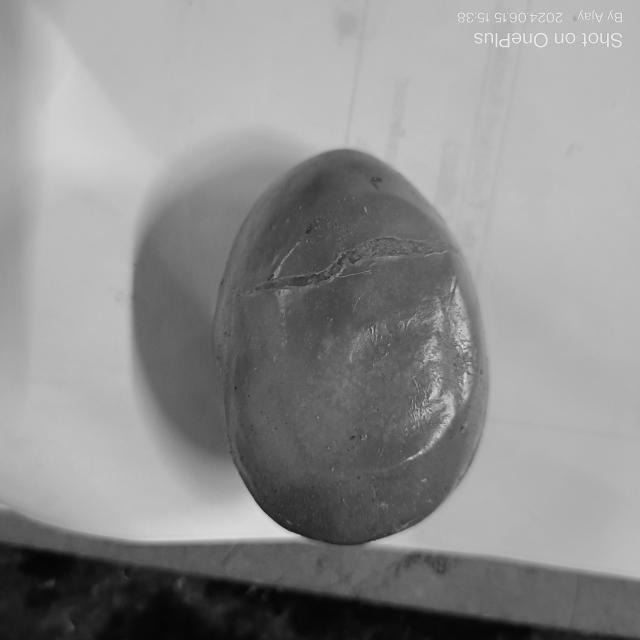Botrytis: (267, 238, 469, 296)
